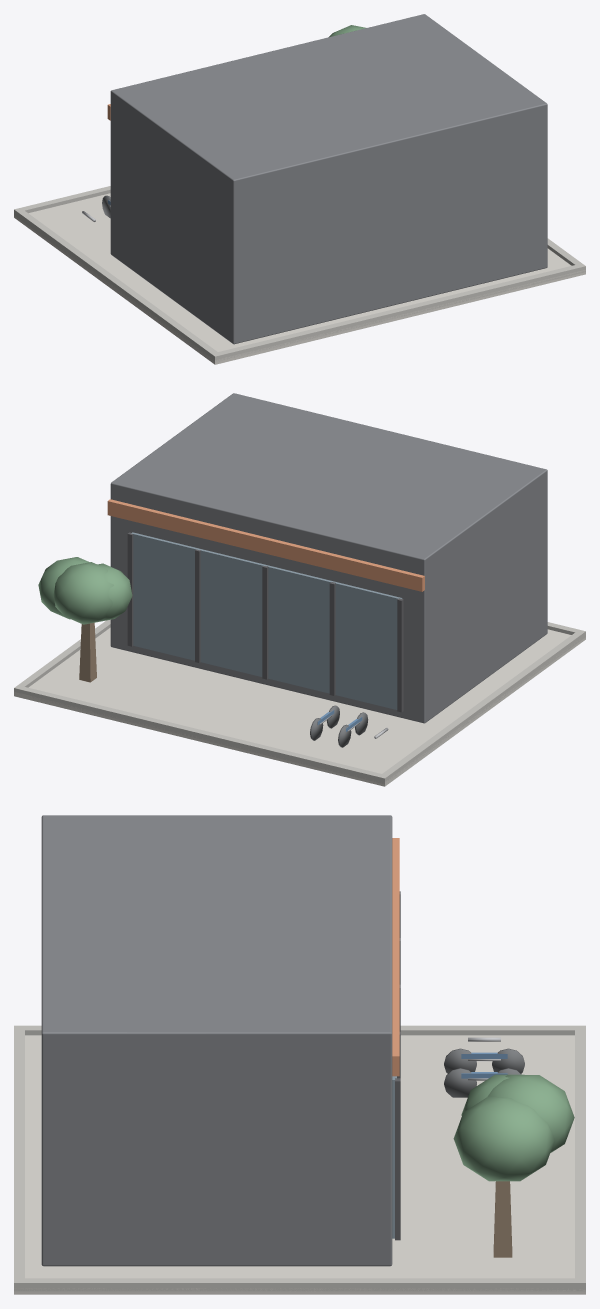
The model's file is mapa.gimnasio.fbx.
3 views of the same model, one above another, from view 1: azimuth 30°, elevation 25°; view 2: azimuth 150°, elevation 25°; view 3: azimuth 270°, elevation 25° (orthographic). The views are drawn at different scales.
Visible parts, largest first — view 1: Gimnasio, Vereda, Solera.001, Solera.003, Solera; view 2: Gimnasio, Vidrio, Vereda, Franja, Solera, Copa.001, Solera.003, Copa, Copa.002, Tronco, Solera.002, Montante.004 (+4 smaller); view 3: Gimnasio, Vereda, Solera.002, Copa.002, Solera.001, Solera, Copa.001, Solera.003, Franja, Tronco, Montante, Rueda de bici.001 (+1 smaller).
Boxes of the visible parts, x1,y1,x2,y2 form: Gimnasio: (110,14,547,344); Vereda: (14,193,585,364); Solera.001: (211,265,585,361); Solera.003: (14,209,221,362); Solera: (14,186,110,213); Gimnasio: (110,393,547,723); Vidrio: (131,532,402,709); Vereda: (14,627,585,786); Franja: (107,499,424,591); Solera: (14,687,387,784); Copa.001: (53,562,113,624); Solera.003: (379,629,585,783); Copa: (97,563,132,622); Copa.002: (38,557,89,619); Tronco: (79,622,96,682); Solera.002: (15,619,110,688); Montante.004: (397,598,403,712); Gimnasio: (41,815,392,1266); Vereda: (14,1035,585,1294); Solera.002: (14,1278,585,1291); Copa.002: (453,1096,554,1181); Solera.001: (14,1025,24,1291); Solera: (575,1025,585,1291); Copa.001: (487,1075,574,1152); Solera.003: (14,1025,585,1035); Franja: (392,838,399,1076); Tronco: (493,1181,512,1257); Montante: (395,1078,400,1240); Rueda de bici.001: (444,1068,476,1097).
Bounding box in the file's own units: 3.3 × 1.45 × 3.1.
